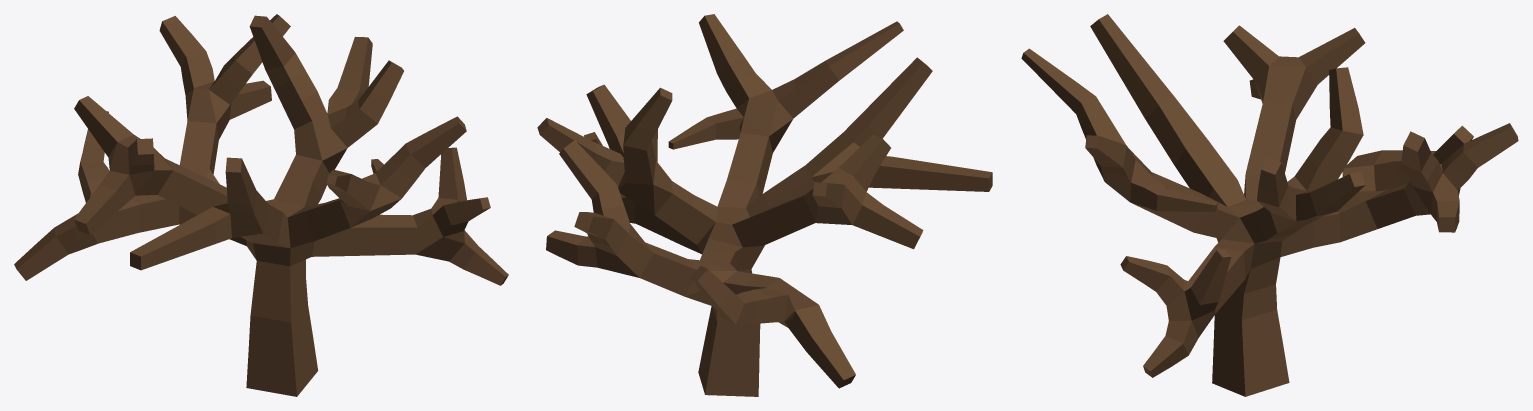
Rendered from dead bush.fbx.
3 views of the same model, side by side, from view 1: azimuth 30°, elevation 25°; view 2: azimuth 150°, elevation 25°; view 3: azimuth 270°, elevation 25° (orthographic). The views are drawn at different scales.
Parts seen in each view (by area): view 1: Cube; view 2: Cube; view 3: Cube.
Boxes of the visible parts, <box> form: Cube: <box>14,14,508,396</box>; Cube: <box>537,14,992,396</box>; Cube: <box>1021,14,1518,396</box>.
Bounding box in the file's own units: 46.09 × 37.48 × 51.13.
